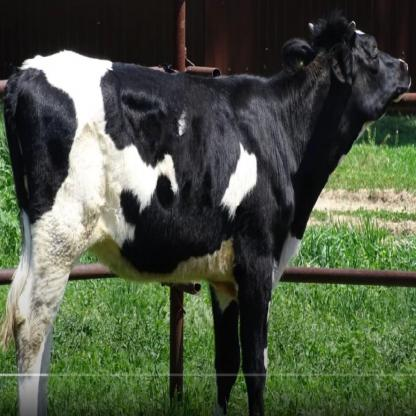cow: (1, 12, 411, 416)
